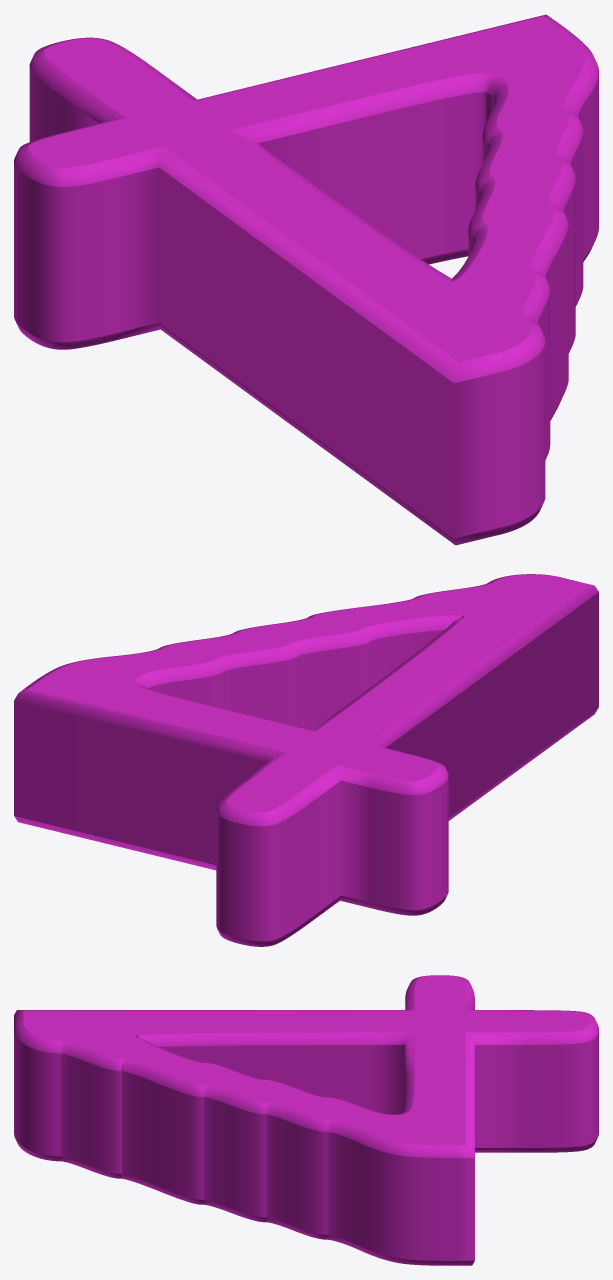
The model's file is Blocky_Number_4.fbx.
The picture shows the model from 3 angles, top to bottom: view 1: azimuth 30°, elevation 25°; view 2: azimuth 150°, elevation 25°; view 3: azimuth 270°, elevation 25°; orthographic projection. The views are drawn at different scales.
Parts seen in each view (by area): view 1: BlockyNumber_4; view 2: BlockyNumber_4; view 3: BlockyNumber_4.
Part boxes in pixels (x1,y1,x2,y2): BlockyNumber_4: (14, 14, 598, 545); BlockyNumber_4: (14, 574, 598, 946); BlockyNumber_4: (14, 975, 598, 1265).
Bounding box in the file's own units: 0.4446 × 0.14 × 0.6181.
